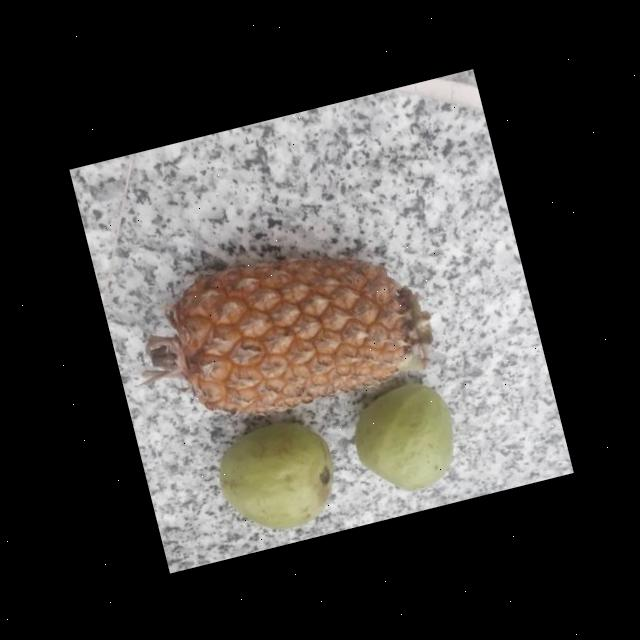guava: (209, 412, 349, 538), (344, 372, 472, 500)
pineapple: (136, 222, 437, 438)
